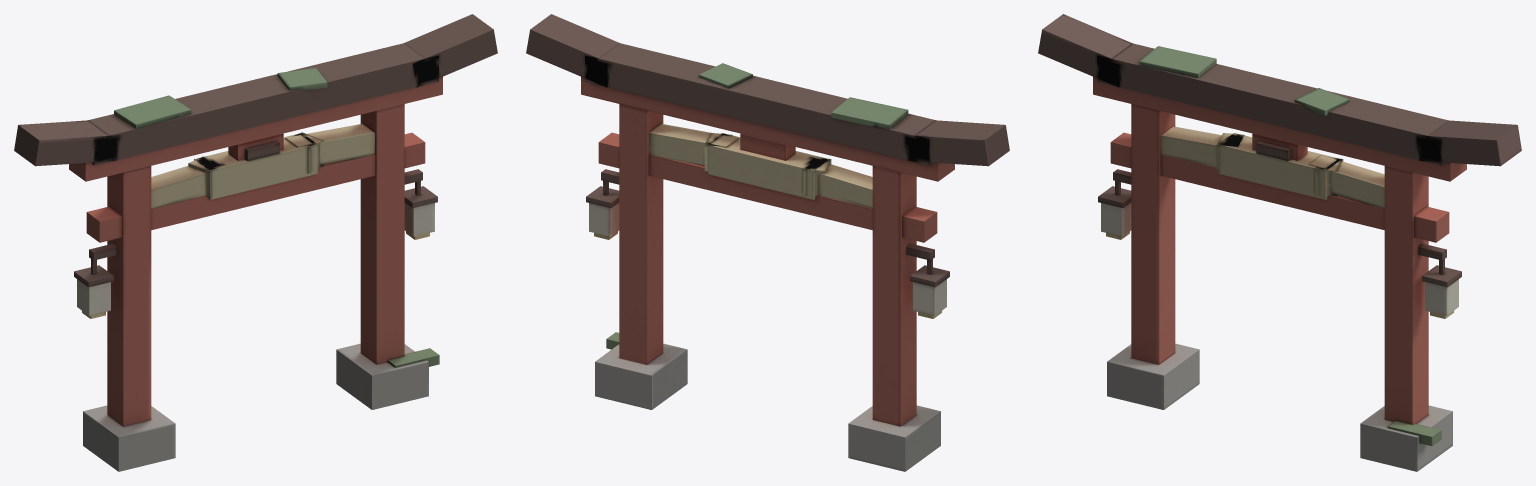
Rendered from torii.glb.
3 renders of one model, left to right at view 1: azimuth 30°, elevation 25°; view 2: azimuth 150°, elevation 25°; view 3: azimuth 330°, elevation 25°, orthographic.
Parts seen in each view (by area): view 1: torii; view 2: torii; view 3: torii.
Part boxes in pixels (bbox=[...]): torii: bbox=[14, 14, 497, 471]; torii: bbox=[526, 14, 1009, 471]; torii: bbox=[1038, 14, 1521, 471].
Size of the model in its own units: 7.31 by 5.19 by 0.98.
7 materials, 7 textured.
